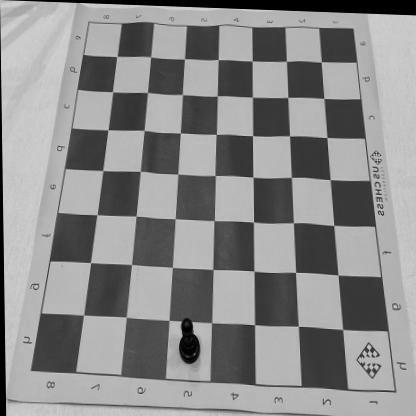black-pawn: (176, 316, 200, 364)
